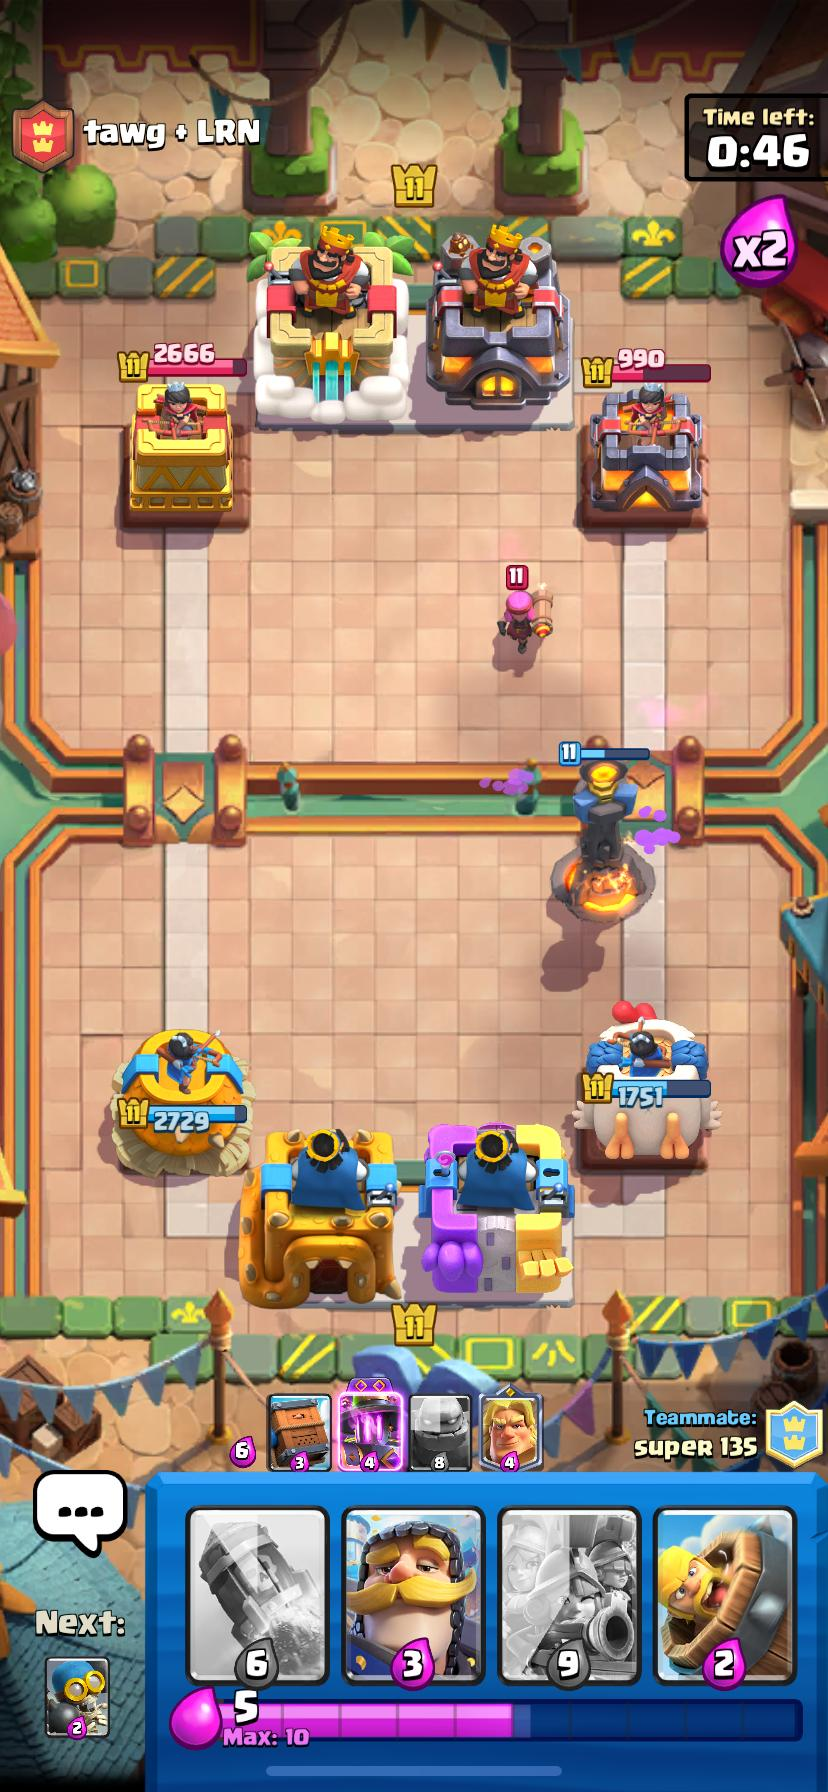EFirecrack: (497, 584, 551, 654)
EKingTower: (254, 226, 408, 424), (425, 225, 570, 409)
EnemyPrincessTower: (582, 386, 702, 526), (127, 379, 233, 522)
OInfernoTower: (551, 763, 654, 923)
OwnKingTower: (240, 1129, 403, 1307), (419, 1123, 573, 1301)
OwnPrincessTower: (574, 1002, 720, 1166), (113, 1030, 253, 1175)
